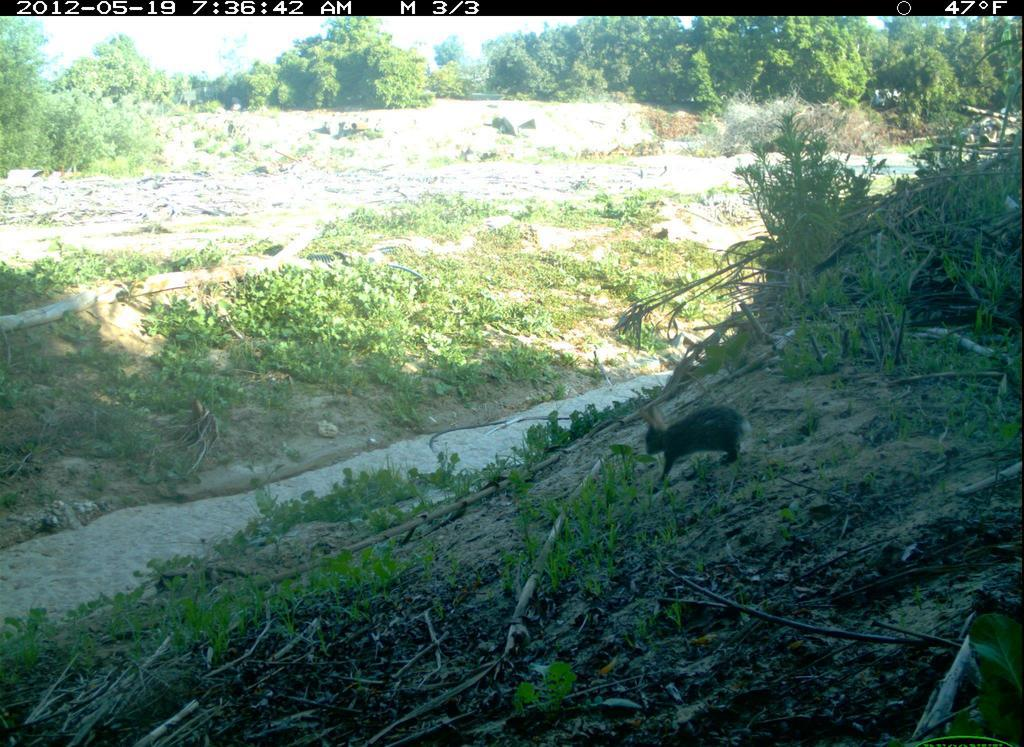rabbit: (615, 395, 766, 484)
